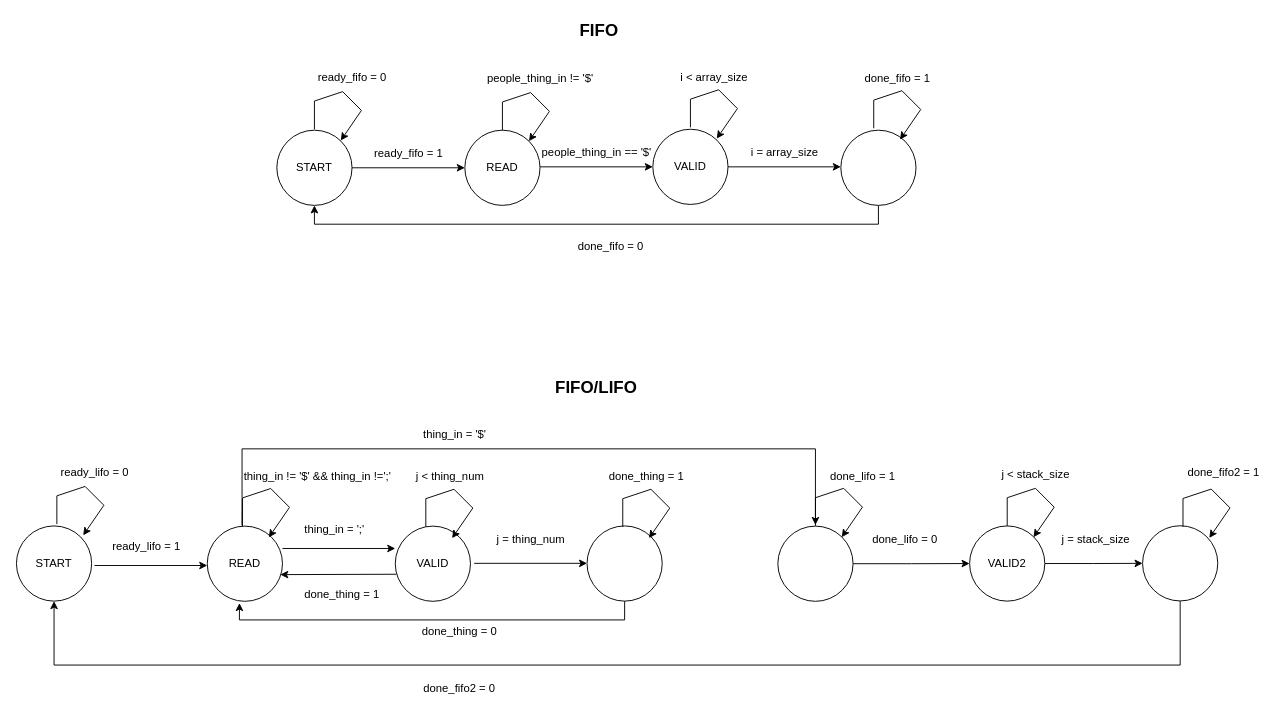
This 1287x718 diagram has some shape labels left out. The box of each missing label's shape, as (x1, y1, x2, y2) in pixels:
DONE_FIFO: (840, 129, 916, 205)
DONE_FIFO2: (1142, 525, 1218, 601)
DONE_LIFO: (777, 525, 853, 601)
DONE_THING: (586, 525, 662, 601)
